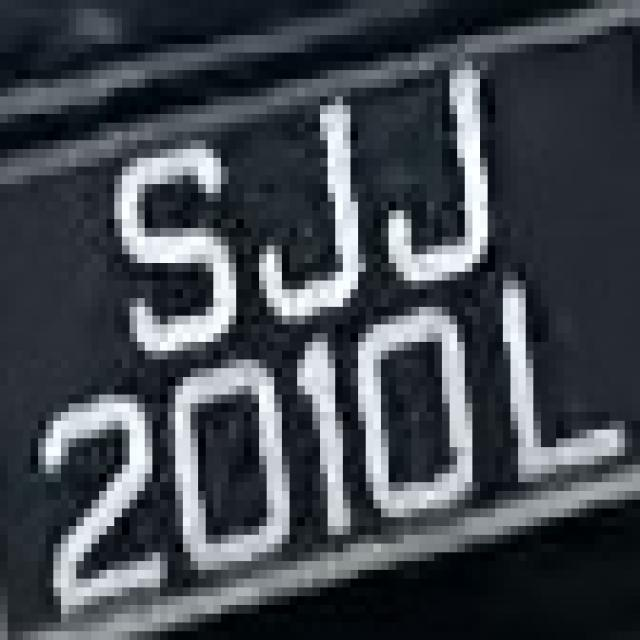0: (160, 342, 297, 605), (335, 307, 495, 526)
1: (266, 280, 351, 552)
2: (23, 386, 183, 640)
J: (358, 44, 518, 298), (213, 88, 381, 324)
L: (465, 263, 640, 500)
S: (91, 140, 236, 377)
